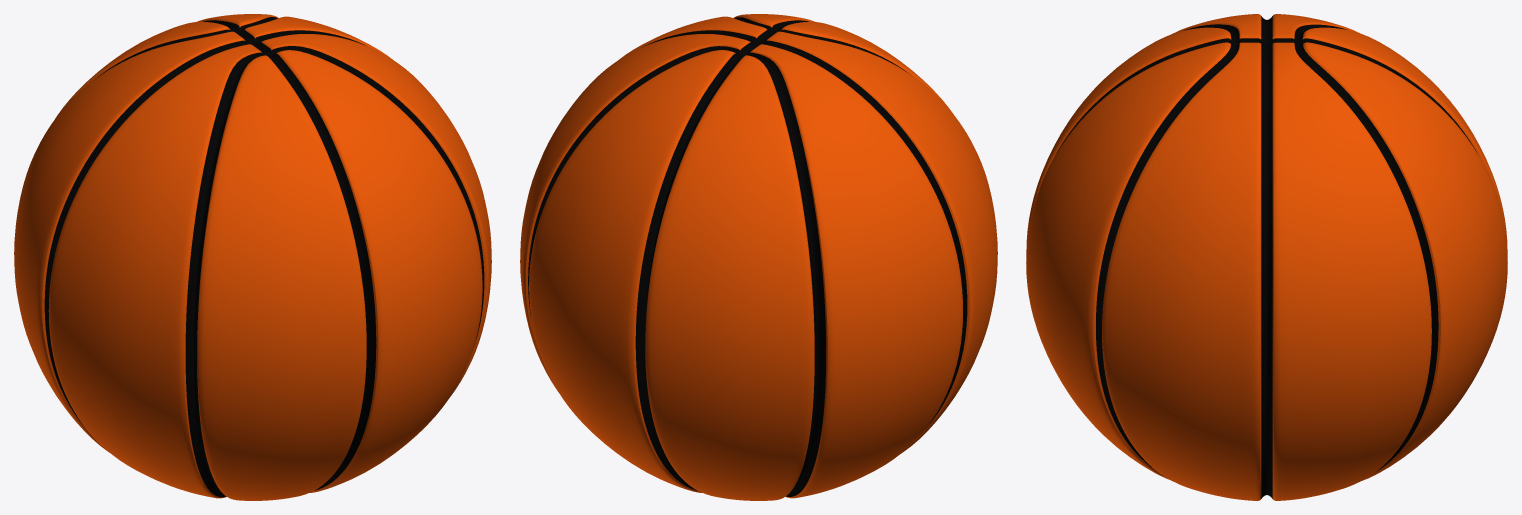
The model's file is basket_ball.glb.
3 views of the same model, side by side, from view 1: azimuth 30°, elevation 25°; view 2: azimuth 150°, elevation 25°; view 3: azimuth 270°, elevation 25° (orthographic).
Parts seen in each view (by area): view 1: Sphere_0; view 2: Sphere_0; view 3: Sphere_0.
Boxes of the visible parts, x1,y1,x2,y2 form: Sphere_0: [14, 14, 491, 500]; Sphere_0: [520, 14, 997, 500]; Sphere_0: [1026, 14, 1507, 500].
Size of the model in its own units: 1.96 by 1.96 by 1.96.
